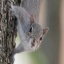squirrel: (13, 1, 48, 53)
